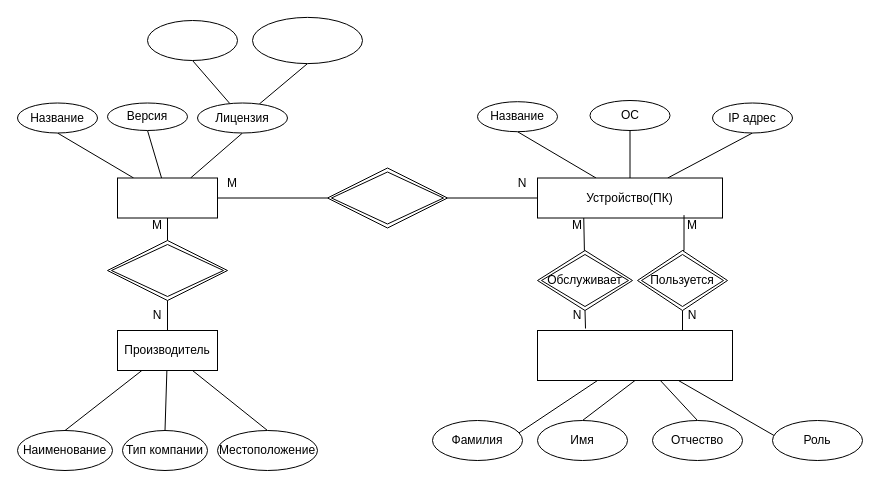
Image size: 880x489. Some labels were removed from this diagram. The shapes that lost their labels are listed below. From the top down, each one's centre as x and y in pixels, then its label:
At (192,40): "Дата начала действия".
At (307,40): "Дата окончания действия".
At (167,197): "Программное обеспечение".
At (387,197): "Установлено".
At (167,270): "Приобретено".
At (634,355): "Пользователь".
